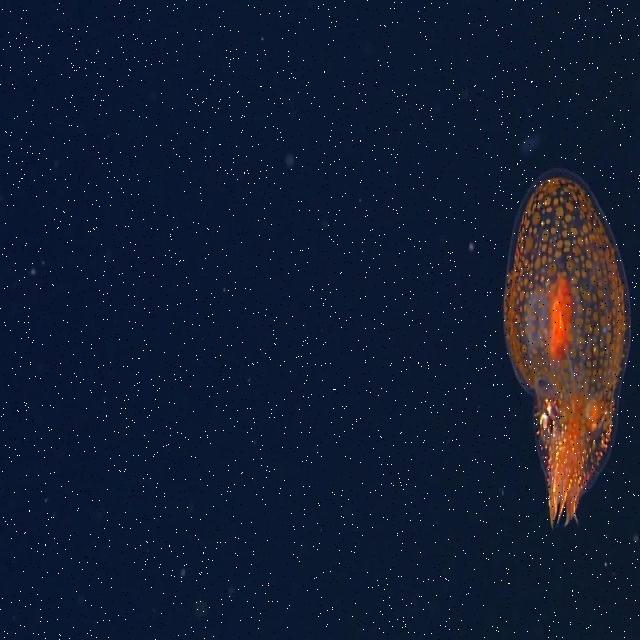reefs: (502, 167, 632, 527)
